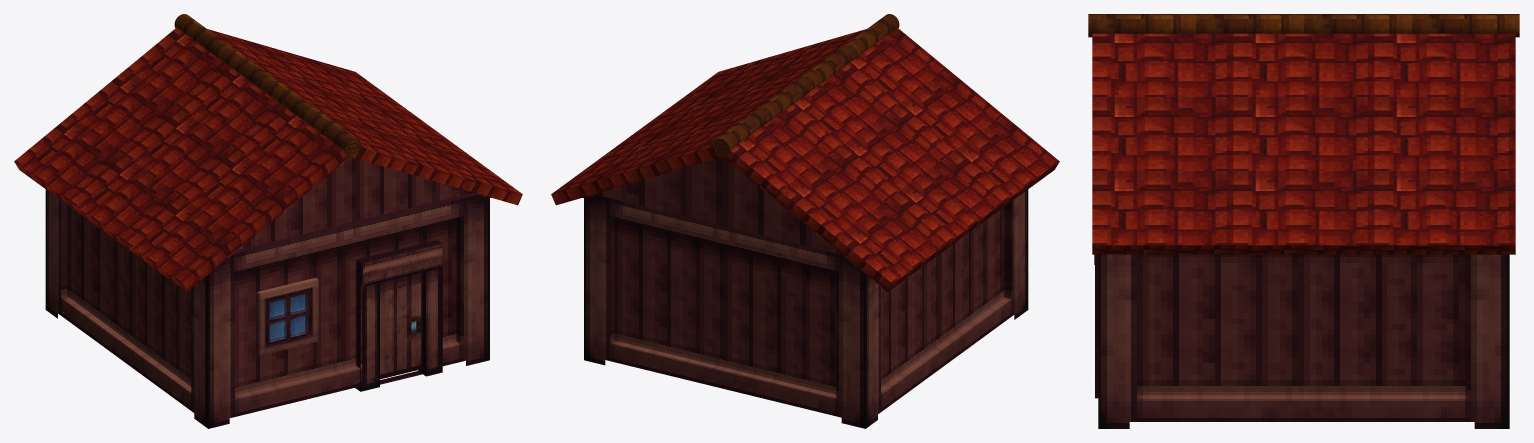
Rendered from house.glb.
3 views of the same model, side by side, from view 1: azimuth 30°, elevation 25°; view 2: azimuth 150°, elevation 25°; view 3: azimuth 270°, elevation 25° (orthographic). The views are drawn at different scales.
Parts seen in each view (by area): view 1: Plane.005, Walls, door, Plane.002, Plane.004, Cylinder; view 2: Walls, Plane.005, Plane.001, Cylinder; view 3: Plane.005, Walls, Cylinder, door.
Part boxes in pixels (x1=…): Plane.005: x1=14, y1=28, x2=522, y2=292; Walls: x1=45, y1=189, x2=489, y2=428; door: x1=355, y1=240, x2=442, y2=391; Plane.002: x1=238, y1=157, x2=491, y2=249; Plane.004: x1=256, y1=277, x2=318, y2=355; Cylinder: x1=174, y1=14, x2=361, y2=155; Walls: x1=584, y1=189, x2=1028, y2=428; Plane.005: x1=551, y1=28, x2=1059, y2=292; Plane.001: x1=582, y1=157, x2=840, y2=254; Cylinder: x1=712, y1=14, x2=899, y2=155; Plane.005: x1=1092, y1=33, x2=1515, y2=254; Walls: x1=1098, y1=254, x2=1509, y2=428; Cylinder: x1=1088, y1=14, x2=1519, y2=37; door: x1=1094, y1=254, x2=1098, y2=398.
Size of the model in its own units: 4.24 by 3.07 by 3.67.
Materials: 10 (10 with a texture image).
